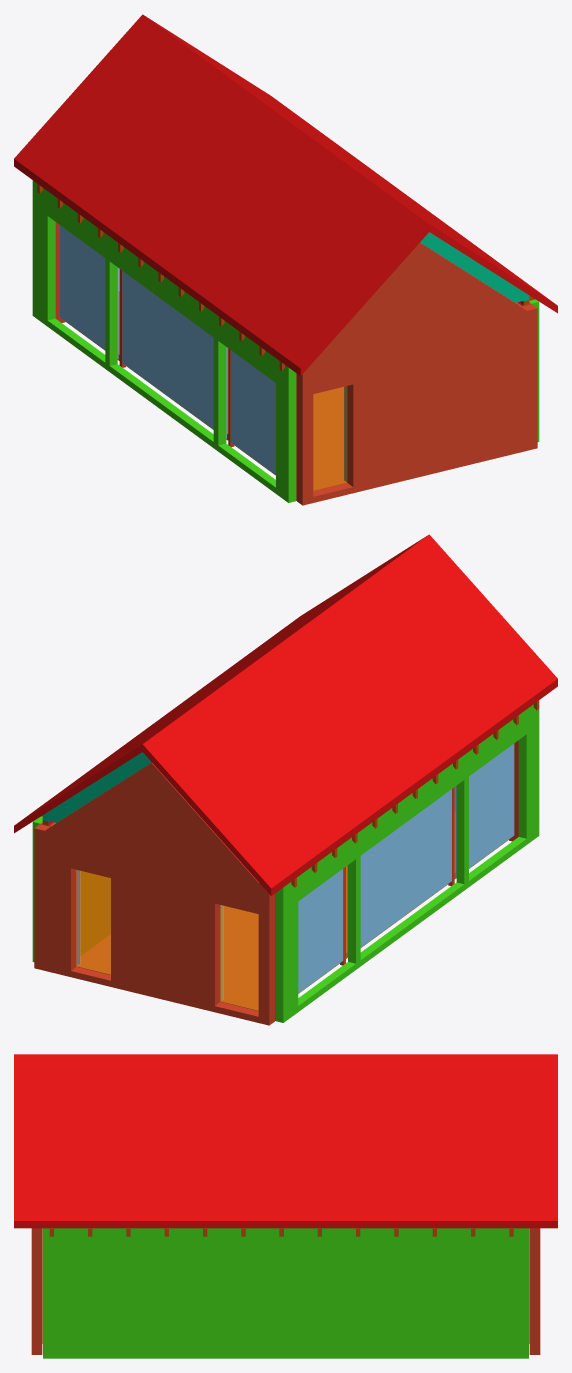
The model's file is obyvak.glb.
3 renders of one model, top to bottom at view 1: azimuth 30°, elevation 25°; view 2: azimuth 150°, elevation 25°; view 3: azimuth 270°, elevation 25°, orthographic. The views are drawn at different scales.
Parts seen in each view (by area): view 1: roofing, masonry, glazing (×3), eps, floor, plenum_wool; view 2: roofing, masonry, glazing (×3), eps, floor, furniture, plenum_wool; view 3: roofing, eps, masonry (×2).
Part boxes in pixels (box(x1,y1,x2,y2)): roofing: box(14, 14, 557, 376); masonry: box(297, 242, 537, 505); glazing (×3): box(60, 225, 275, 474); eps: box(32, 180, 296, 502); floor: box(65, 291, 346, 490); plenum_wool: box(420, 232, 529, 302); roofing: box(14, 534, 557, 896); masonry: box(34, 762, 274, 1025); glazing (×3): box(298, 743, 514, 993); eps: box(275, 704, 539, 1022); floor: box(77, 812, 508, 1010); furniture: box(80, 871, 110, 955); plenum_wool: box(42, 752, 151, 822); roofing: box(14, 1054, 557, 1228); eps: box(43, 1228, 528, 1358); masonry (×2): box(31, 1228, 540, 1354).
Bounding box in the file's own units: 6.44 × 6.21 × 12.43.
